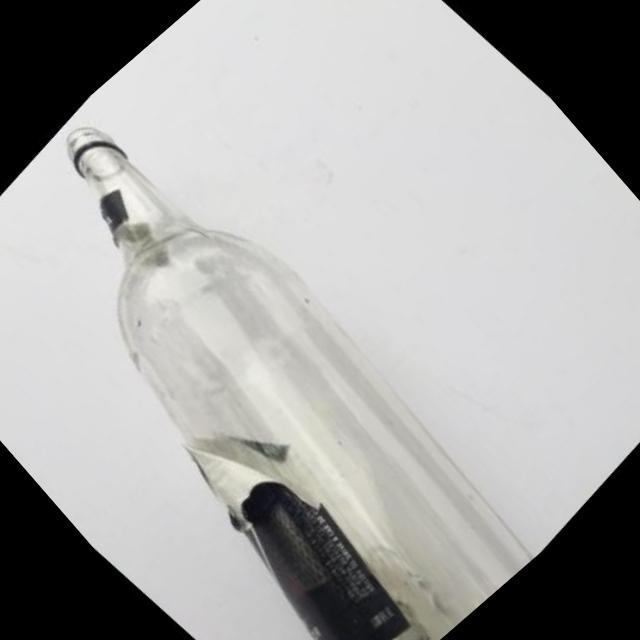BotolKaca: (0, 79, 543, 640)
